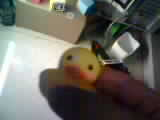duck: (30, 39, 106, 97)
